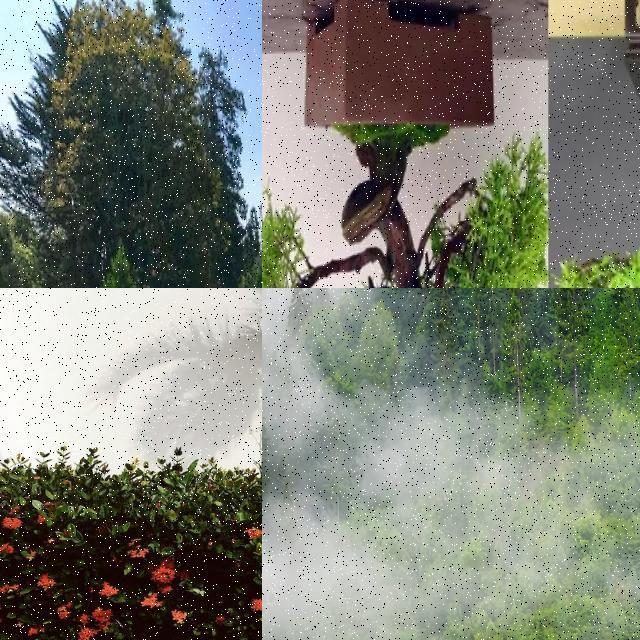tree: (34, 0, 240, 288), (262, 136, 548, 288), (387, 288, 487, 419), (504, 288, 560, 397), (552, 288, 594, 416), (357, 298, 407, 402), (262, 336, 290, 512), (617, 288, 639, 420), (517, 288, 561, 339), (262, 400, 278, 510), (262, 288, 298, 332), (324, 288, 358, 334), (432, 288, 470, 324), (296, 288, 334, 320), (287, 288, 315, 324), (307, 288, 329, 332), (398, 288, 428, 320), (369, 288, 393, 324), (627, 288, 640, 338), (598, 288, 622, 312), (606, 288, 630, 312)
